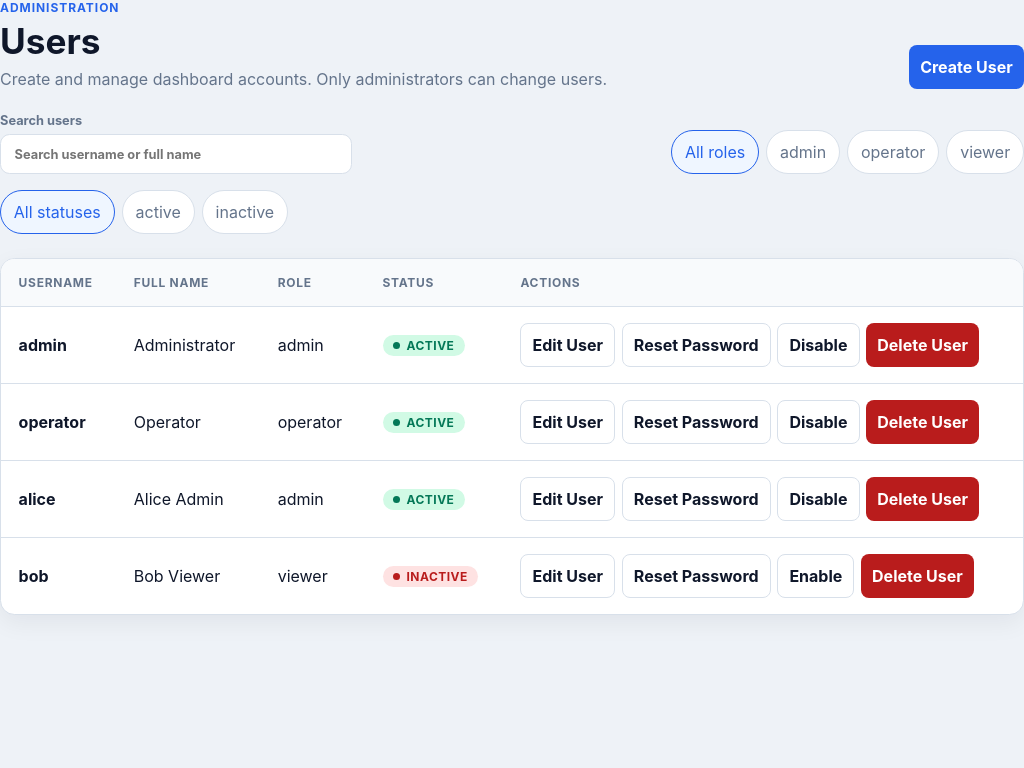
Test case: Users page › opens the delete confirmation dialog
This screenshot has width=1024, height=768.
Expected: the text "alice" is shown, x1=1 y1=460 x2=116 y2=537
Click the button "Delete User" in the row of "Alice Admin": [923, 499] box x1=866 y1=477 x2=979 y2=521
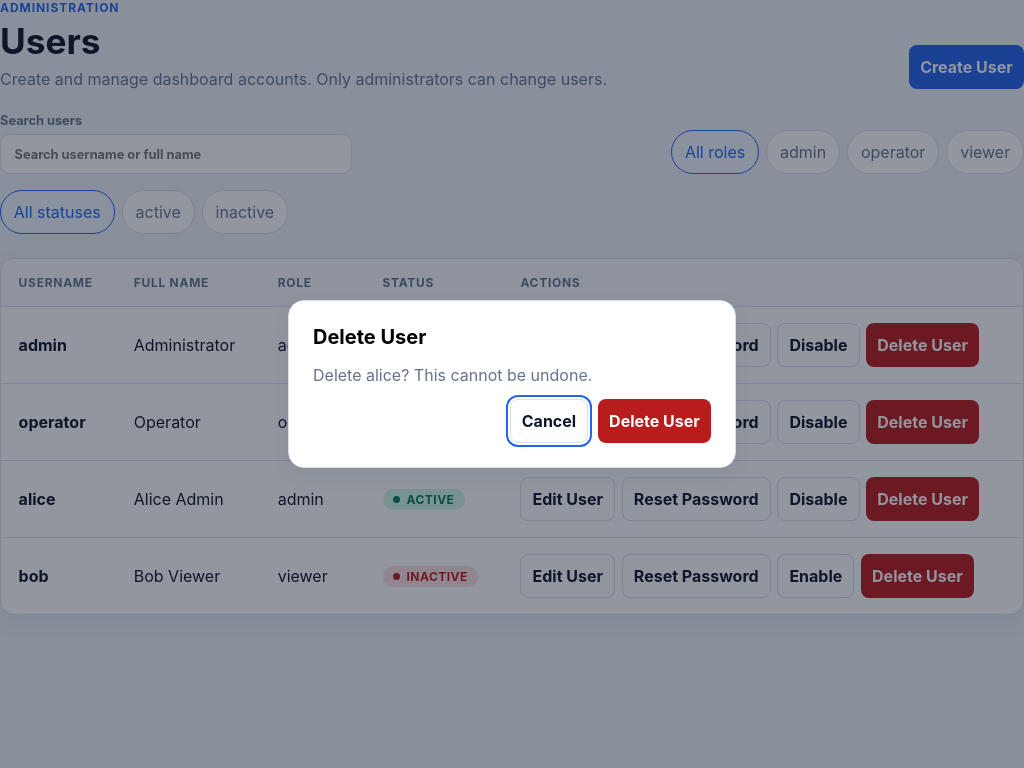
Expected: the heading "Delete User" is shown, x1=313 y1=325 x2=426 y2=349
Expected: the text "Delete alice? This cannot be undone." is shown, x1=313 y1=365 x2=592 y2=385
